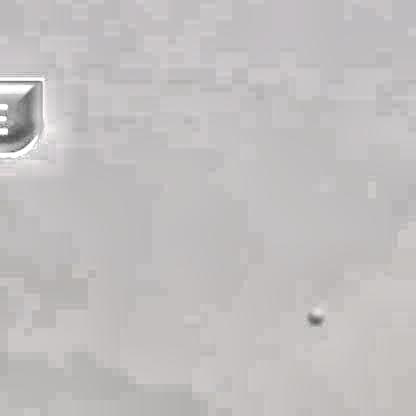golfball: (303, 305, 325, 324)
